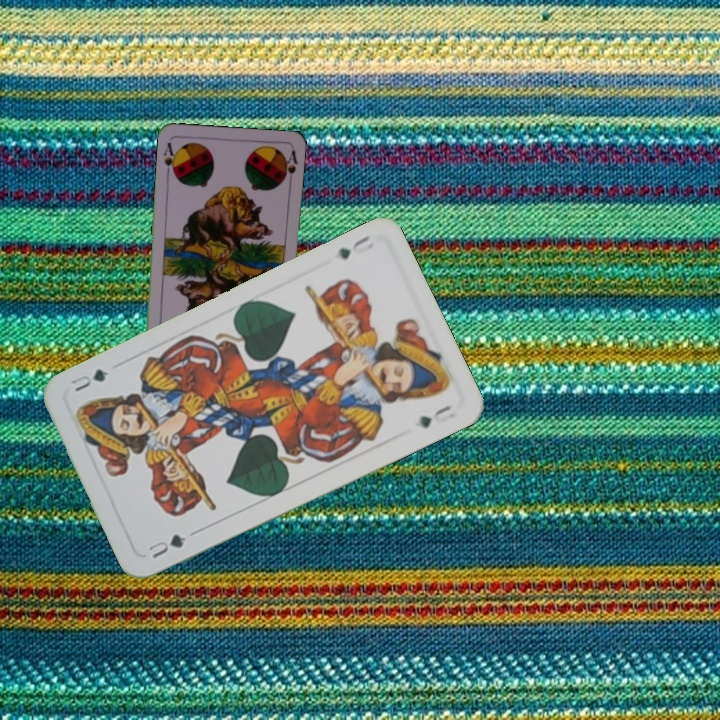GU: (142, 530, 189, 562), (334, 231, 373, 262)
SA: (160, 139, 180, 178)
